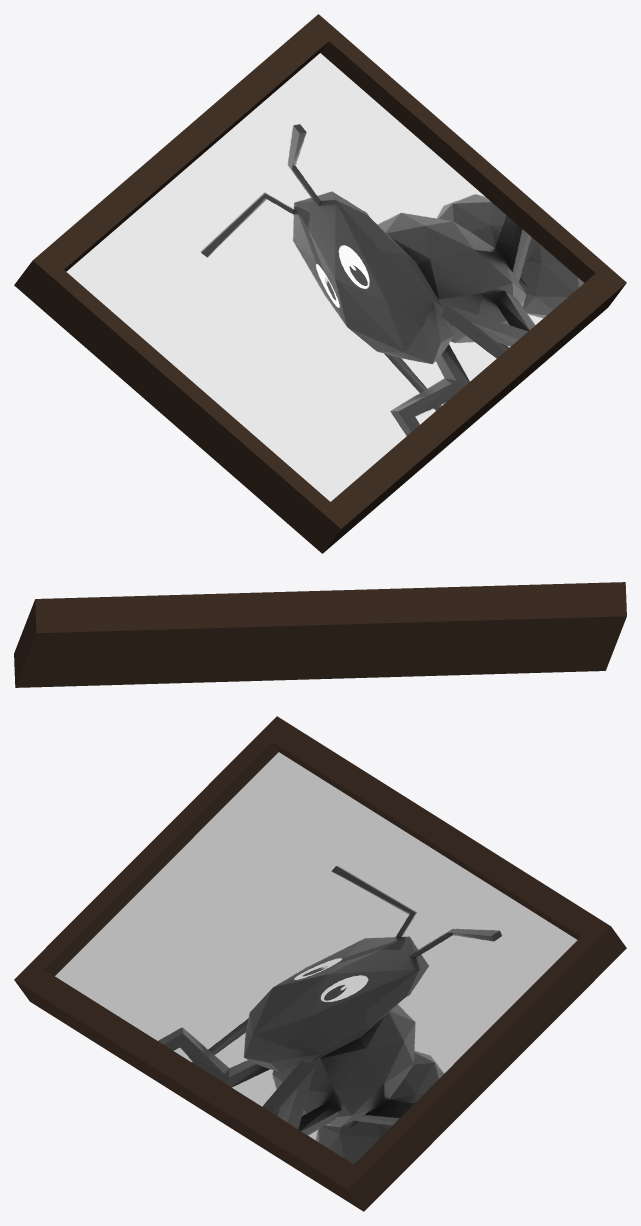
File: 042820antPortraitObject.gltf
3 views of the same model, one above another, from view 1: azimuth 30°, elevation 25°; view 2: azimuth 150°, elevation 25°; view 3: azimuth 270°, elevation 25° (orthographic). The views are drawn at different scales.
Parts seen in each view (by area): view 1: Cube.008, Cube.007; view 2: Cube.007; view 3: Cube.008, Cube.007.
Boxes of the visible parts, x1,y1,x2,y2 form: Cube.008: (66,53,583,501); Cube.007: (14,14,626,553); Cube.007: (14,582,626,687); Cube.008: (55,752,577,1164); Cube.007: (14,716,626,1211).
Bounding box in the file's own units: 3.79 × 1.31 × 3.39.
2 materials, 1 textured.
